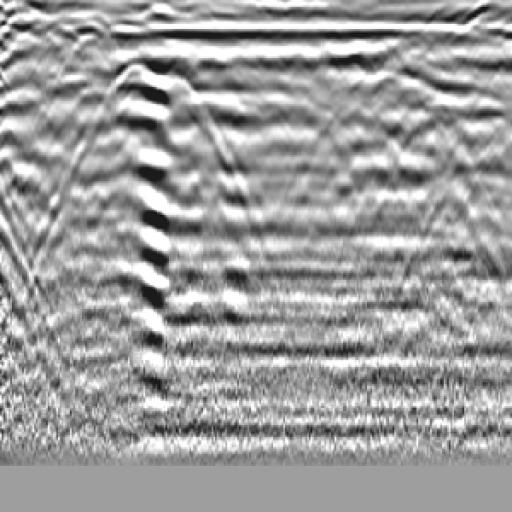metalic: (84, 37, 231, 178)
